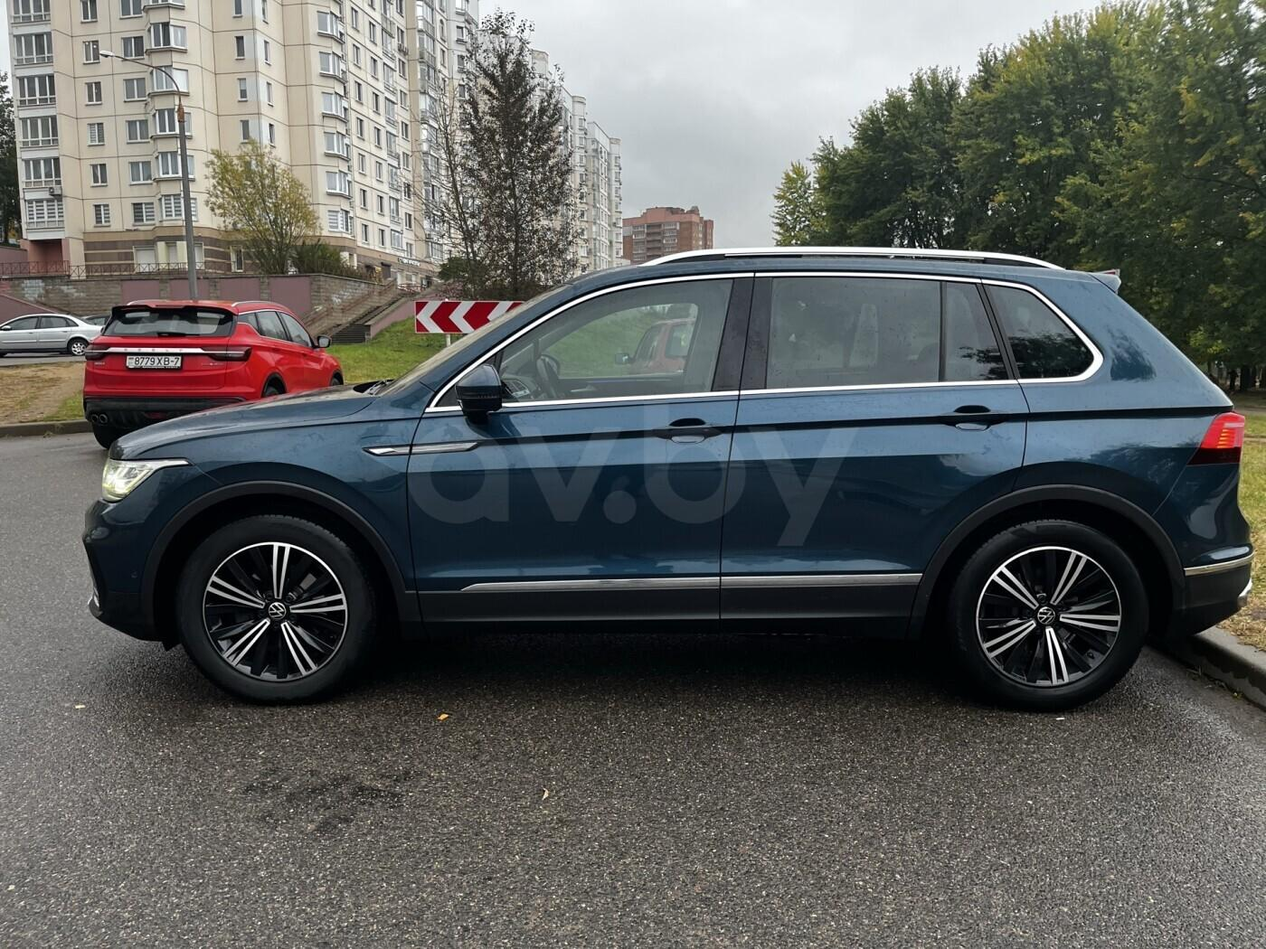Tiguan_2020-2024: (87, 252, 1257, 708)
